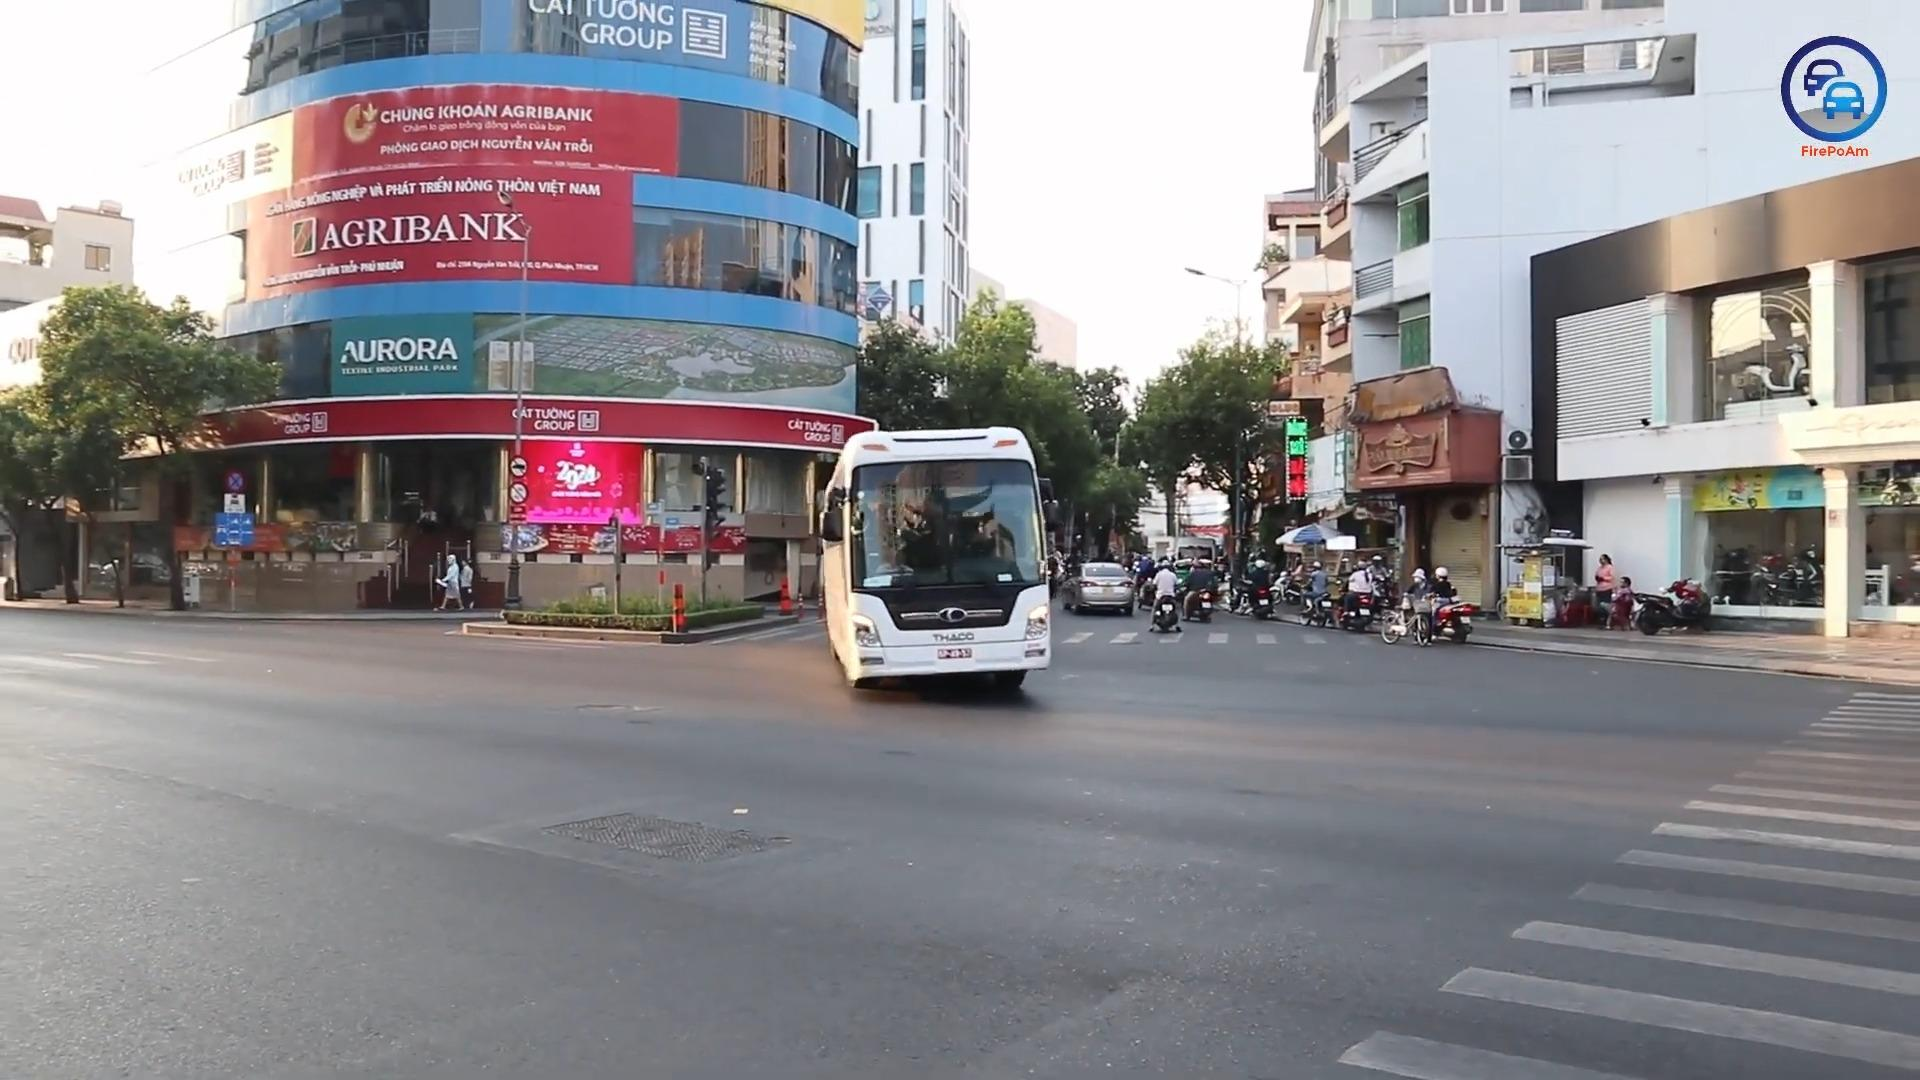bien_so: (937, 647, 974, 661)
